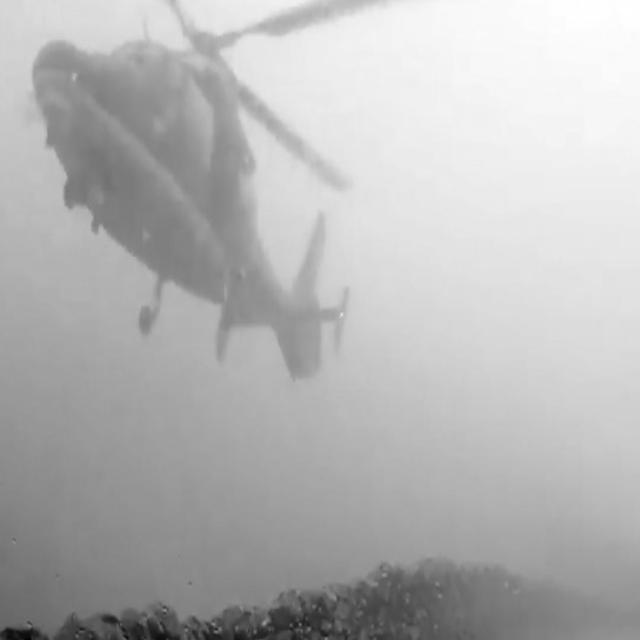helicopter: (33, 1, 368, 383)
